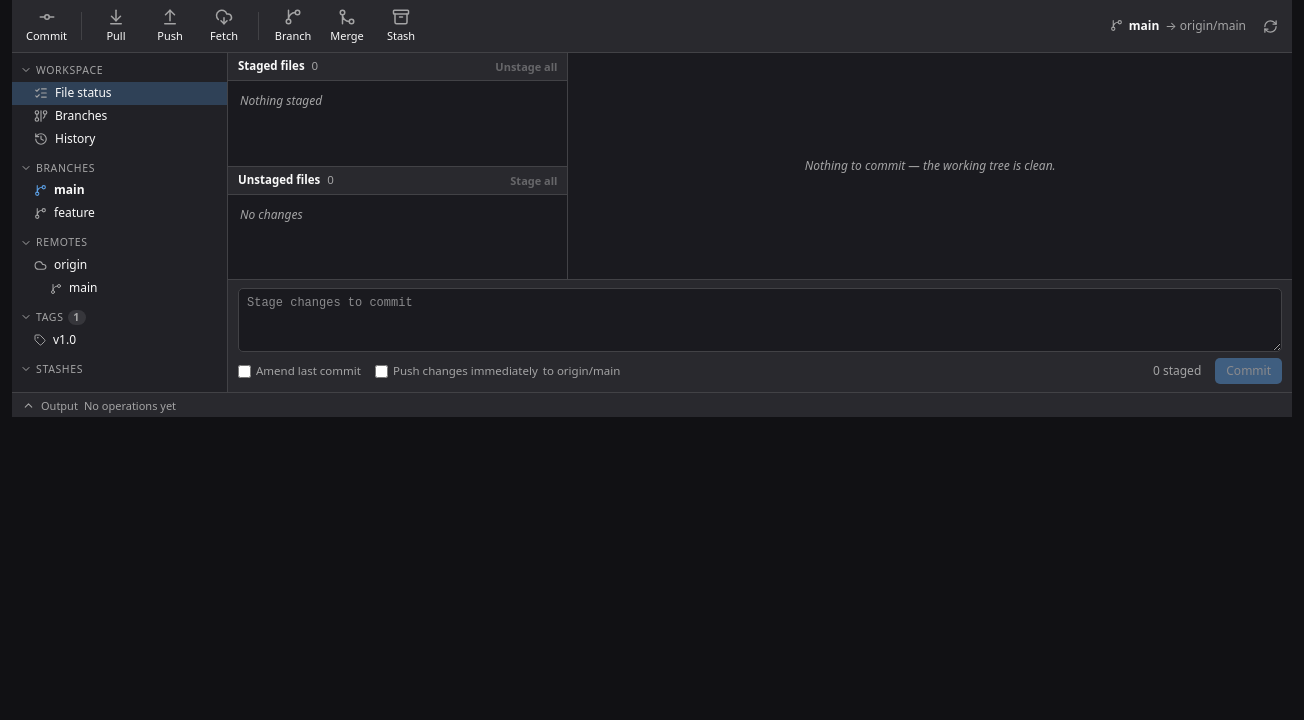
Test: Repository view: Branches › moves along rails with the arrow keys
Click the button "Branches" at [120, 116], box [12,105,227,128]
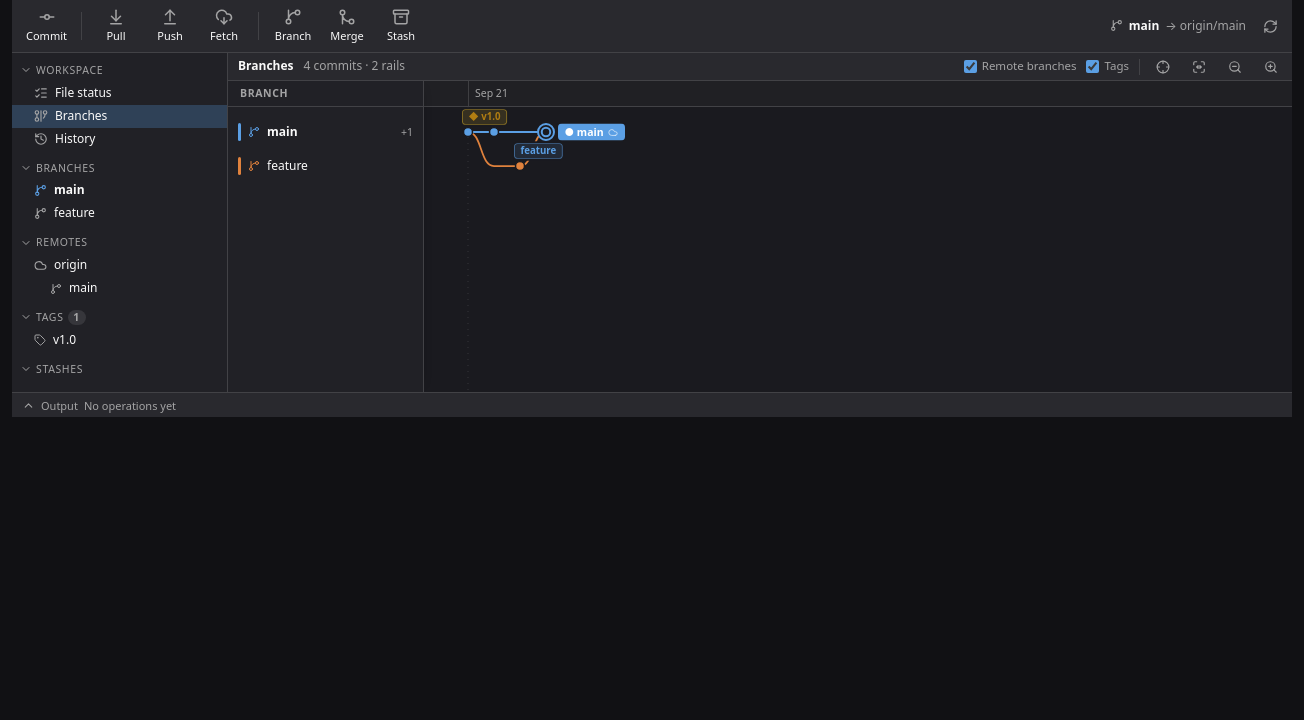
Press ArrowLeft in the element with class "rl-bg-canvas", box [228,81,1292,392]
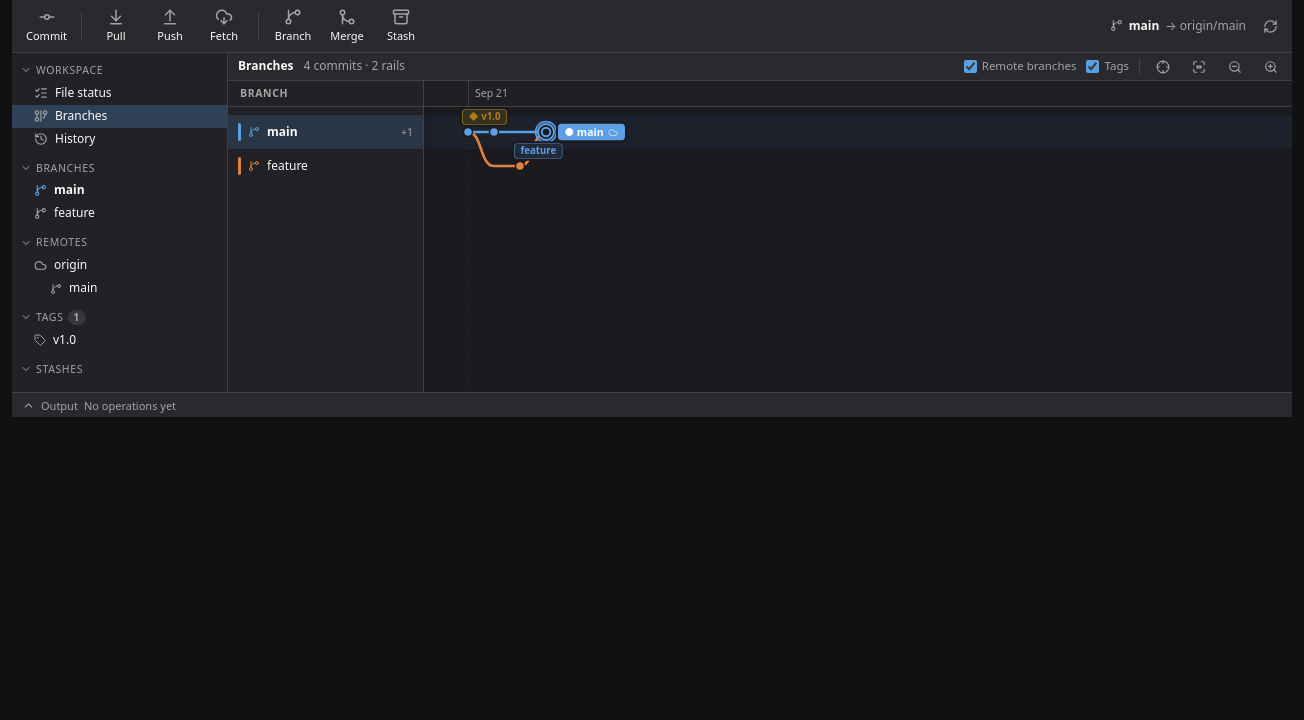
Press ArrowLeft in the element with class "rl-bg-canvas", box [228,81,1292,392]
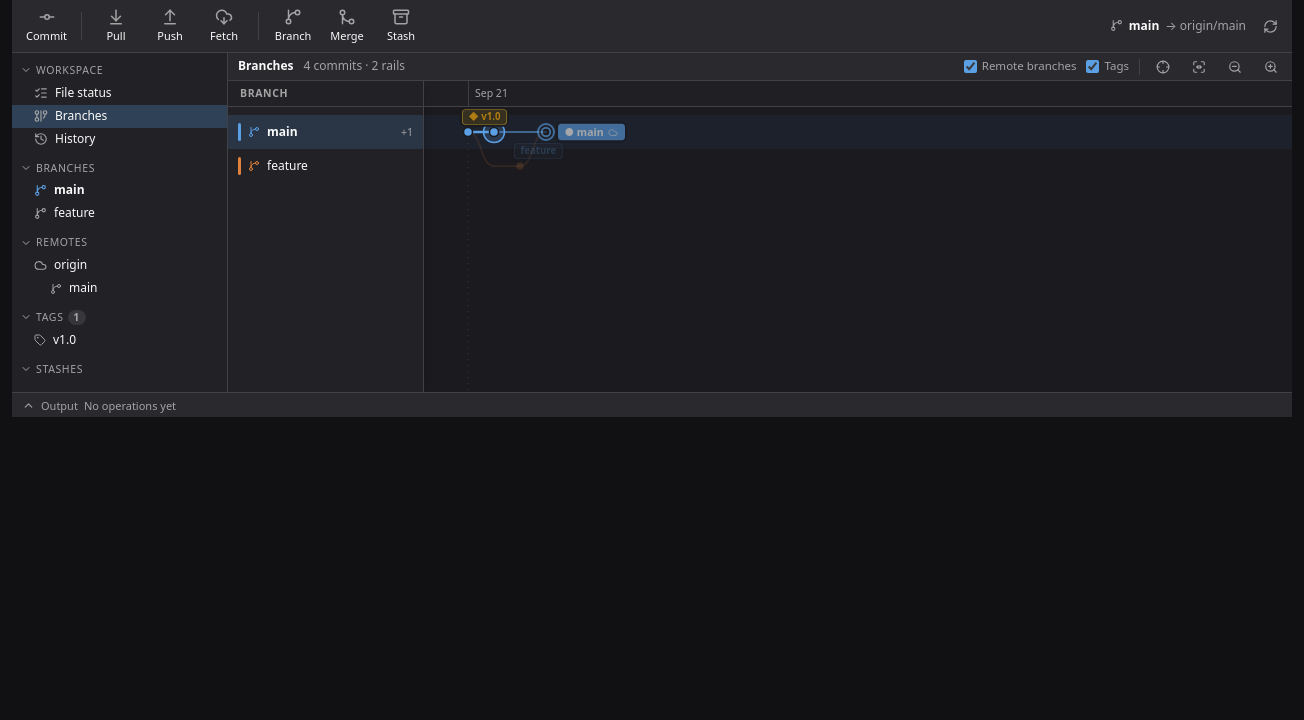
Press ArrowDown in the element with class "rl-bg-canvas", box [228,81,1292,392]
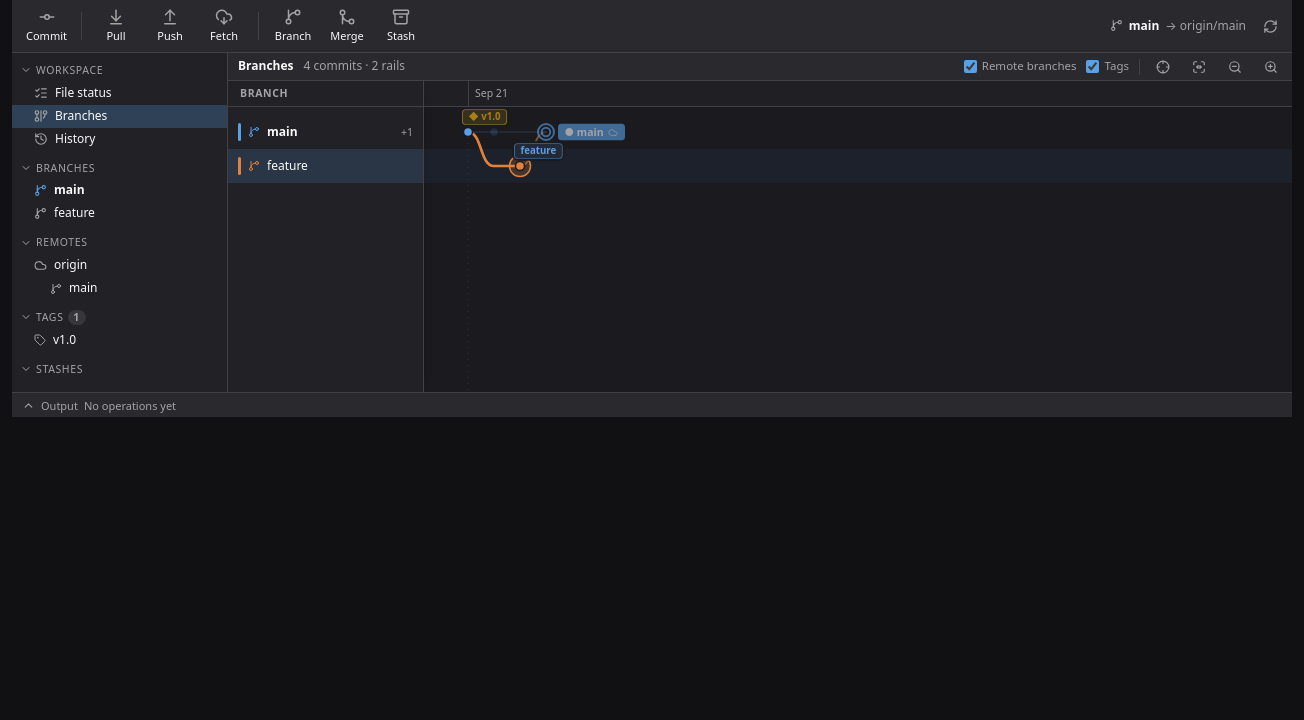
Press ArrowRight in the element with class "rl-bg-canvas", box [228,81,1292,392]
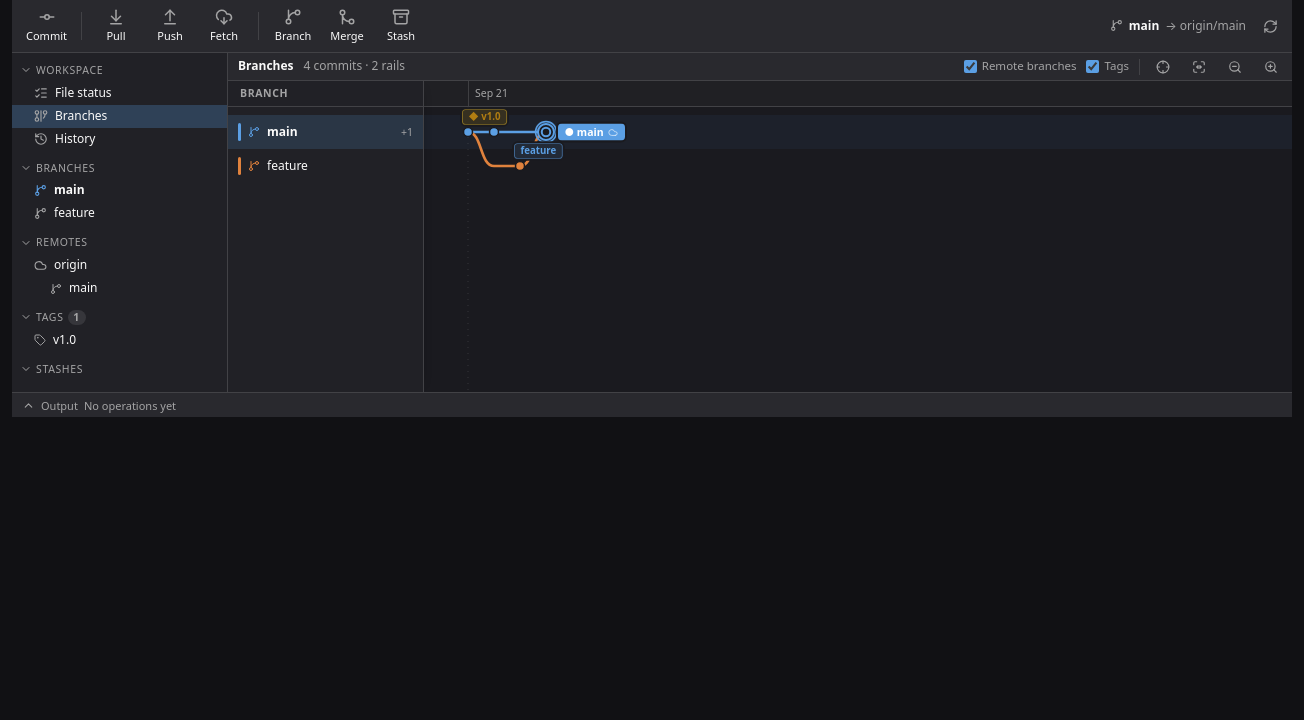
Press Enter in the element with class "rl-bg-canvas", box [228,81,1292,392]
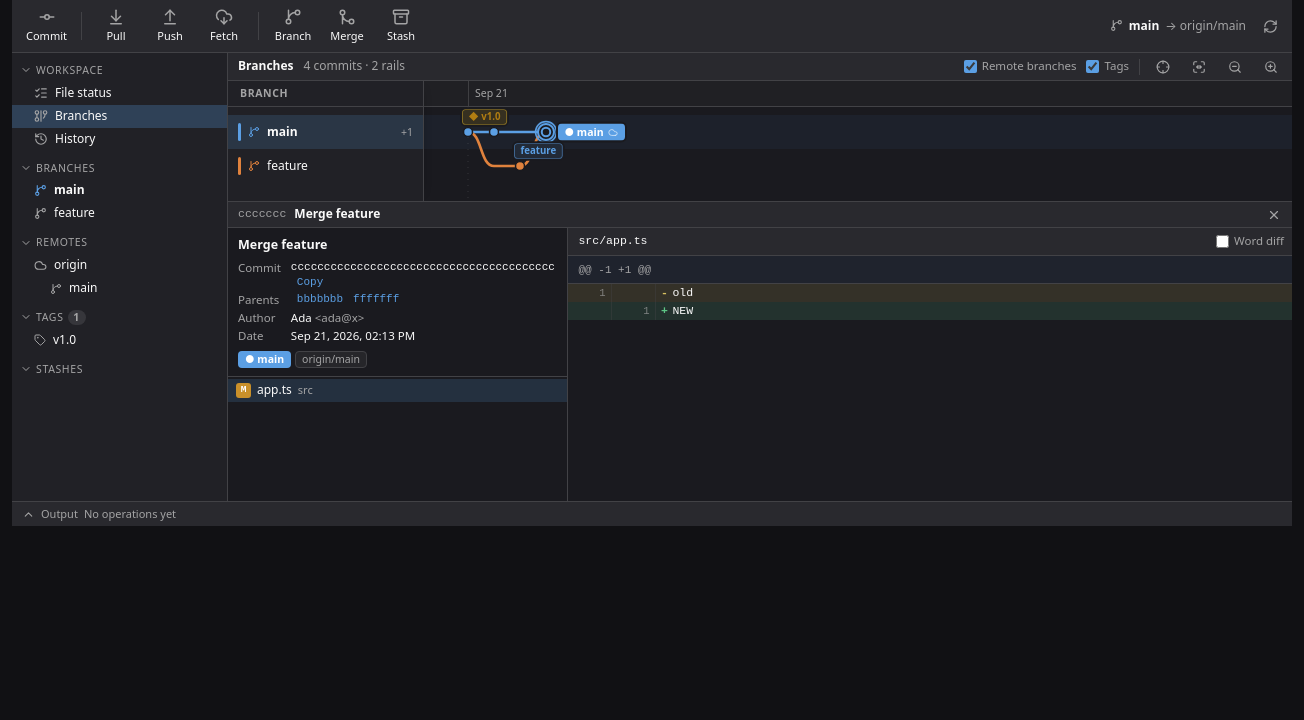
expect the element with class "rl-bg-drawer" is shown: met, box [228,201,1292,501]
